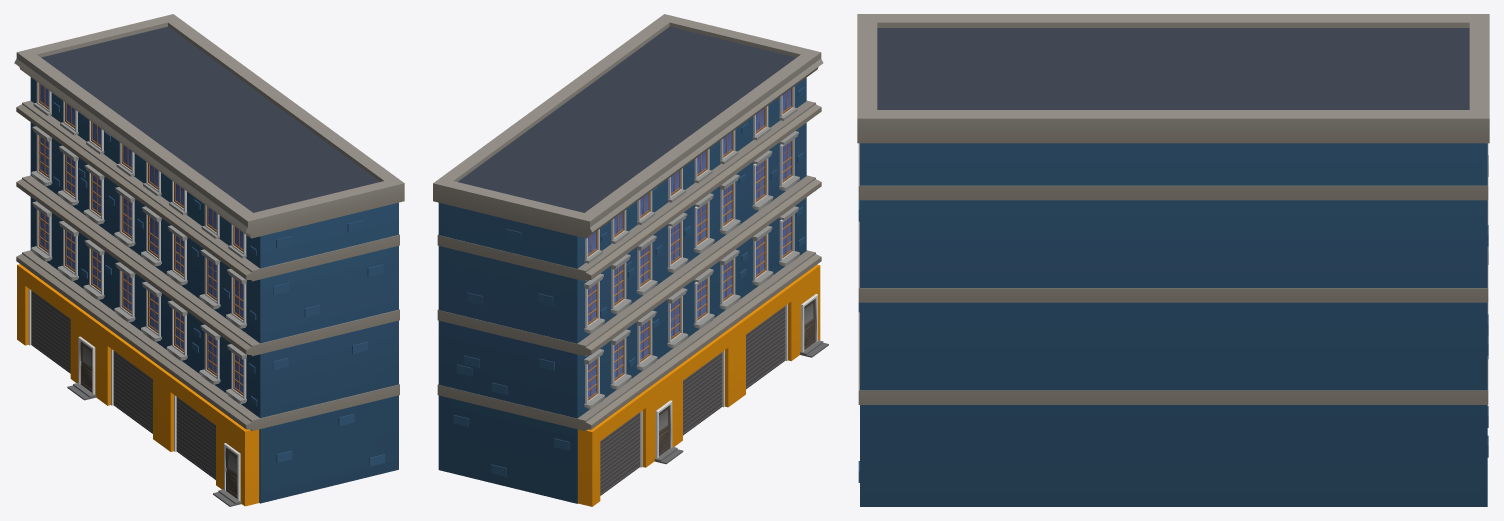
The model's file is Building_20_1_J.fbx.
The picture shows the model from 3 angles, left to right: view 1: azimuth 30°, elevation 25°; view 2: azimuth 150°, elevation 25°; view 3: azimuth 270°, elevation 25°; orthographic projection. The views are drawn at different scales.
Parts seen in each view (by area): view 1: Building_20_1_J; view 2: Building_20_1_J; view 3: Building_20_1_J.
Boxes of the visible parts, x1,y1,x2,y2 form: Building_20_1_J: (14, 14, 404, 506); Building_20_1_J: (433, 14, 828, 506); Building_20_1_J: (857, 14, 1489, 506).
Bounding box in the file's own units: 774 × 1247 × 1827.
